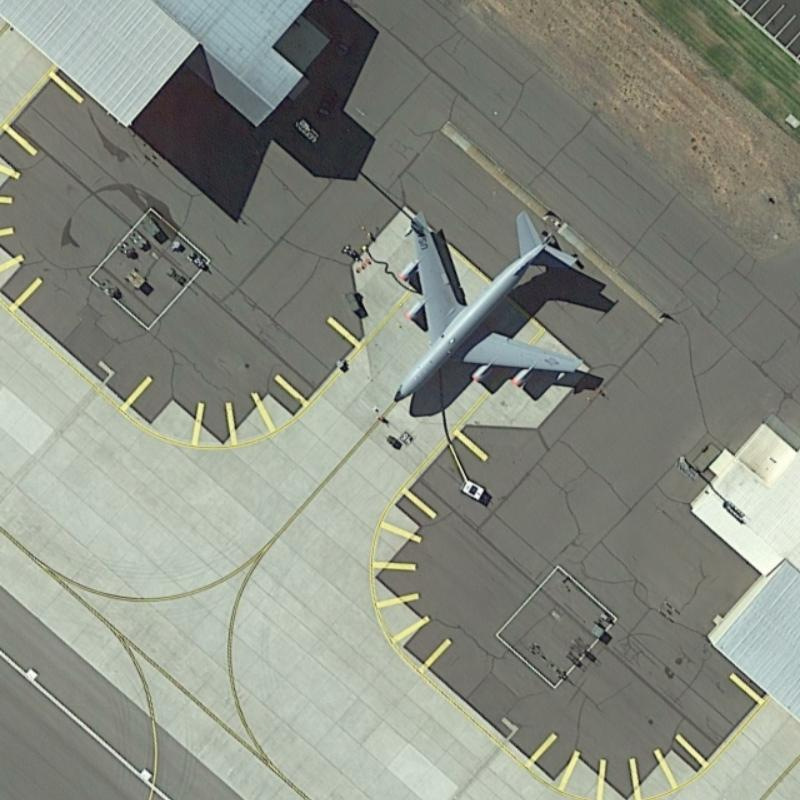A14: (383, 194, 611, 415)
